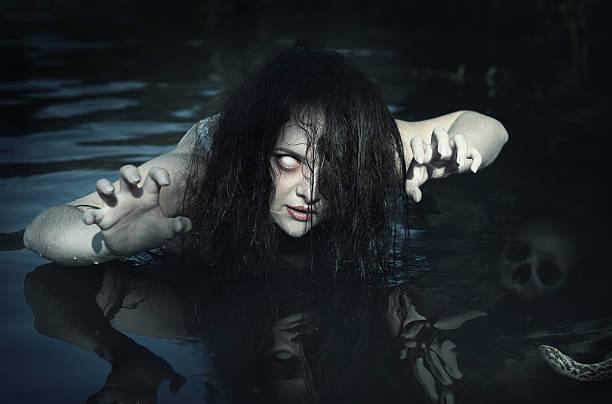Zombie: (271, 118, 327, 237)
